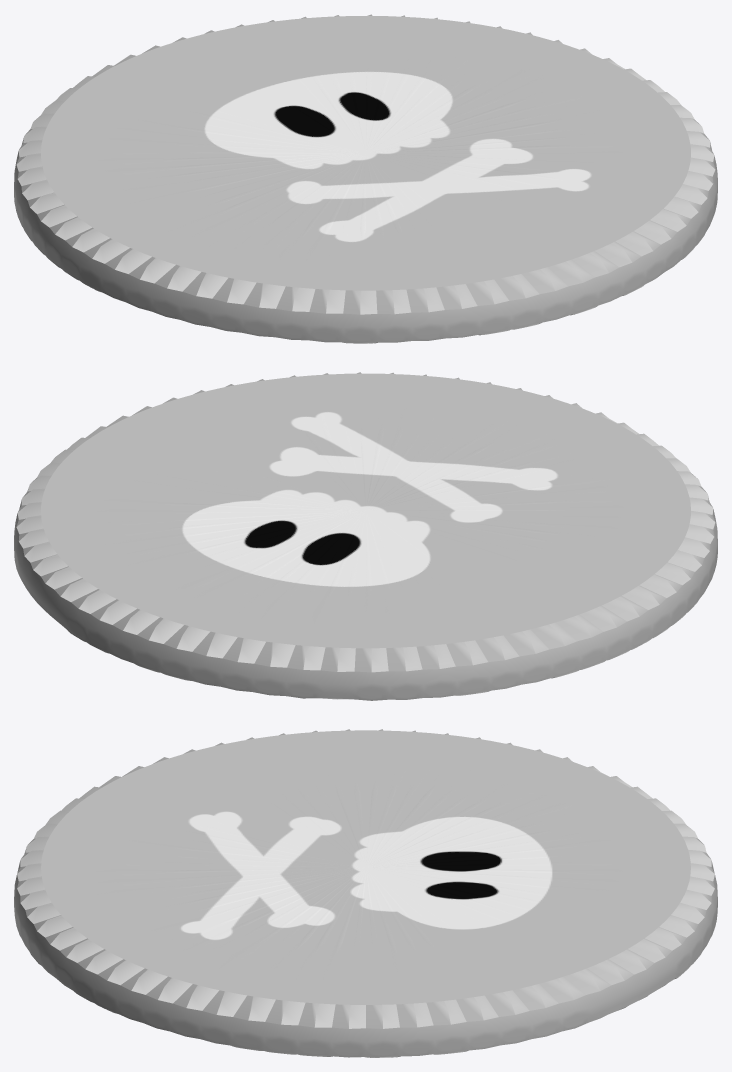
Rendered from martyr.obj.
The picture shows the model from 3 angles, top to bottom: view 1: azimuth 30°, elevation 25°; view 2: azimuth 150°, elevation 25°; view 3: azimuth 270°, elevation 25°; orthographic projection.
Visible parts, largest first — view 1: Cylinder; view 2: Cylinder; view 3: Cylinder.
Boxes of the visible parts, left/top/right/bottom form: Cylinder: left=14, top=14, right=717, bottom=343; Cylinder: left=14, top=372, right=717, bottom=700; Cylinder: left=14, top=729, right=717, bottom=1057.
Bounding box in the file's own units: 2 × 0.1305 × 2.
1 material, 1 textured.
